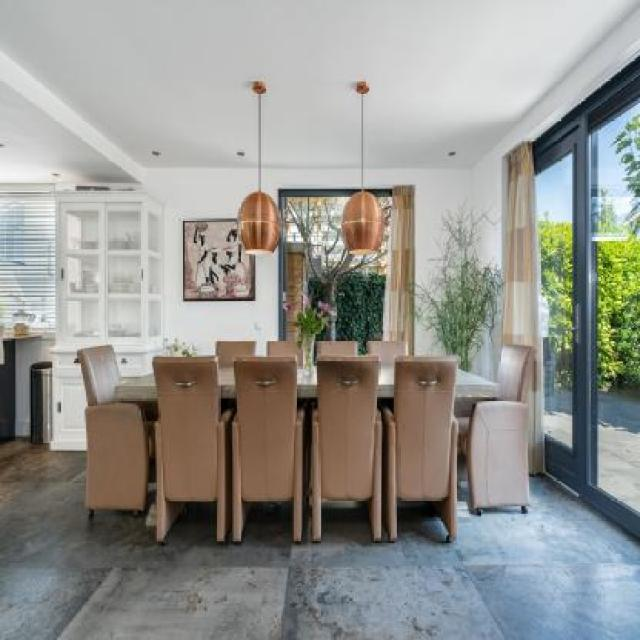floor: (0, 439, 640, 640)
